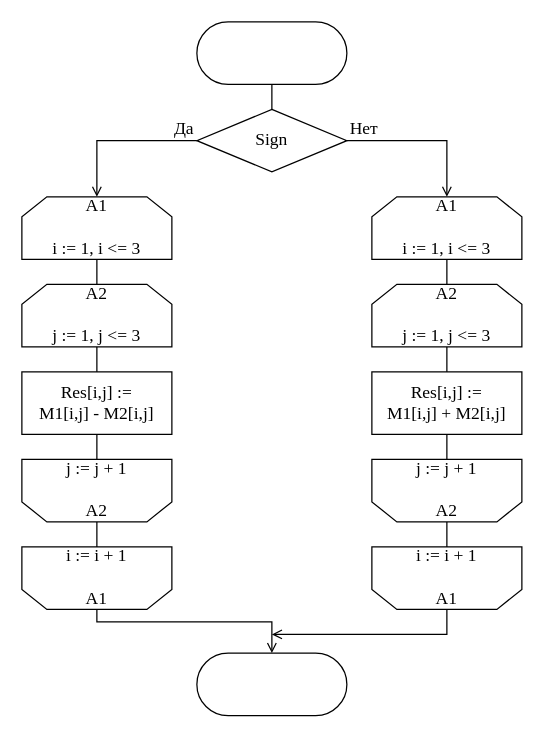
Image size: 544x738. Some labels were removed from this diagram. Here are the shapes that lost their labels. From the top down, the centre of each, then its label:
At [271,52]: "Вход SumMatrix(M1, M2, Sign, Res)".
At [271,684]: "Выход".
